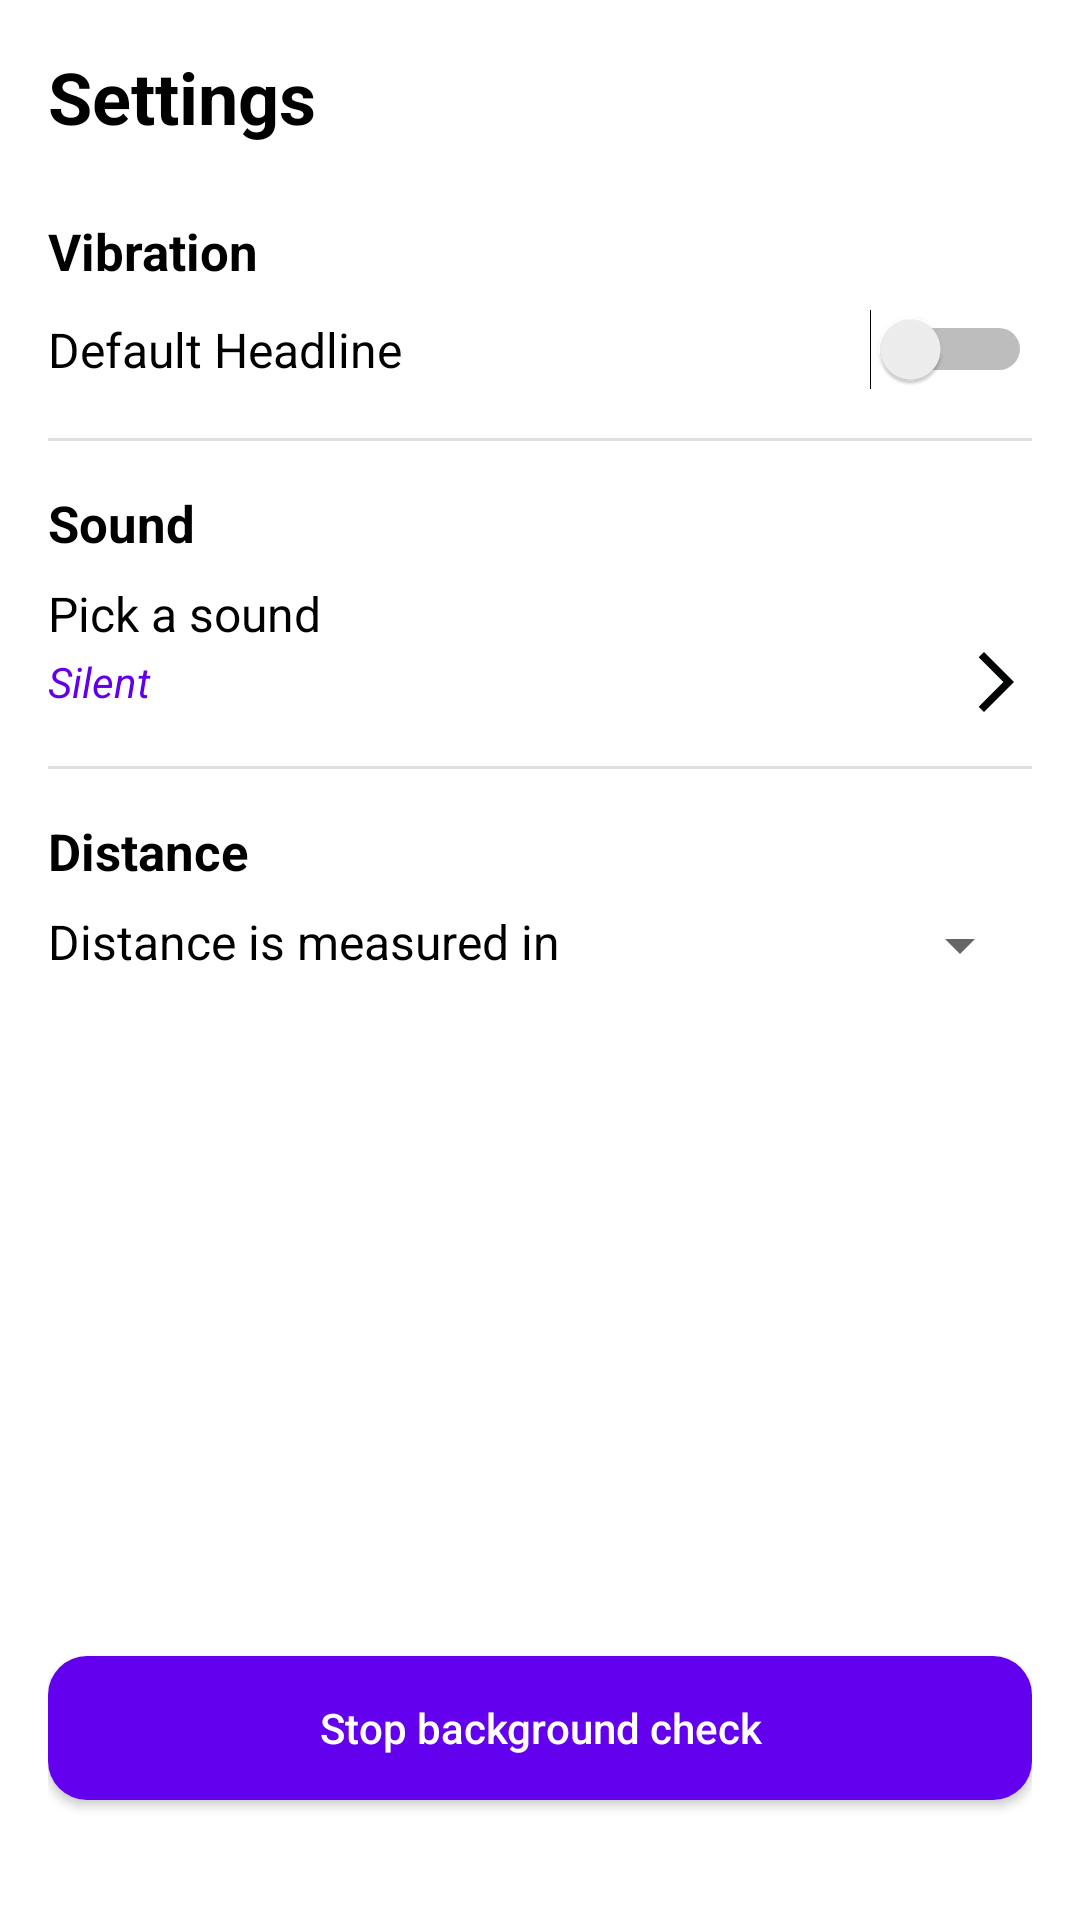

Named icons in this screenshot (1080w x 1920h) and their centers, (x=x, y=y):
right arrow: (x=996, y=682)
